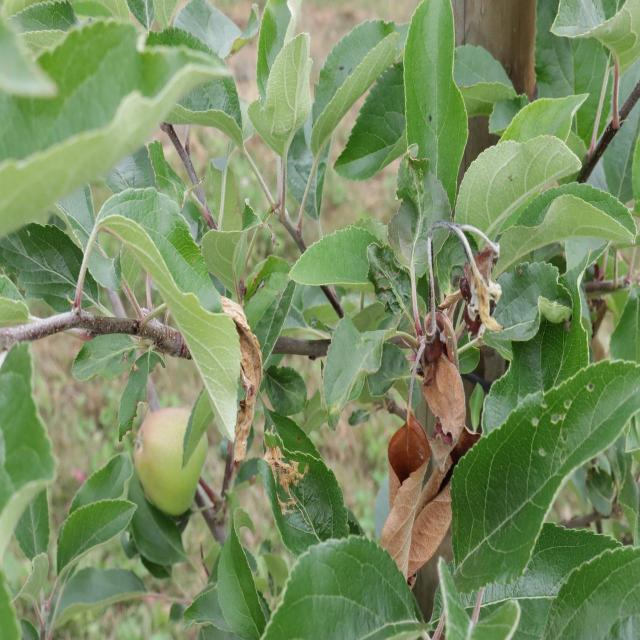-FireBlight-: (413, 231, 500, 437), (385, 422, 455, 580), (220, 295, 260, 463)
